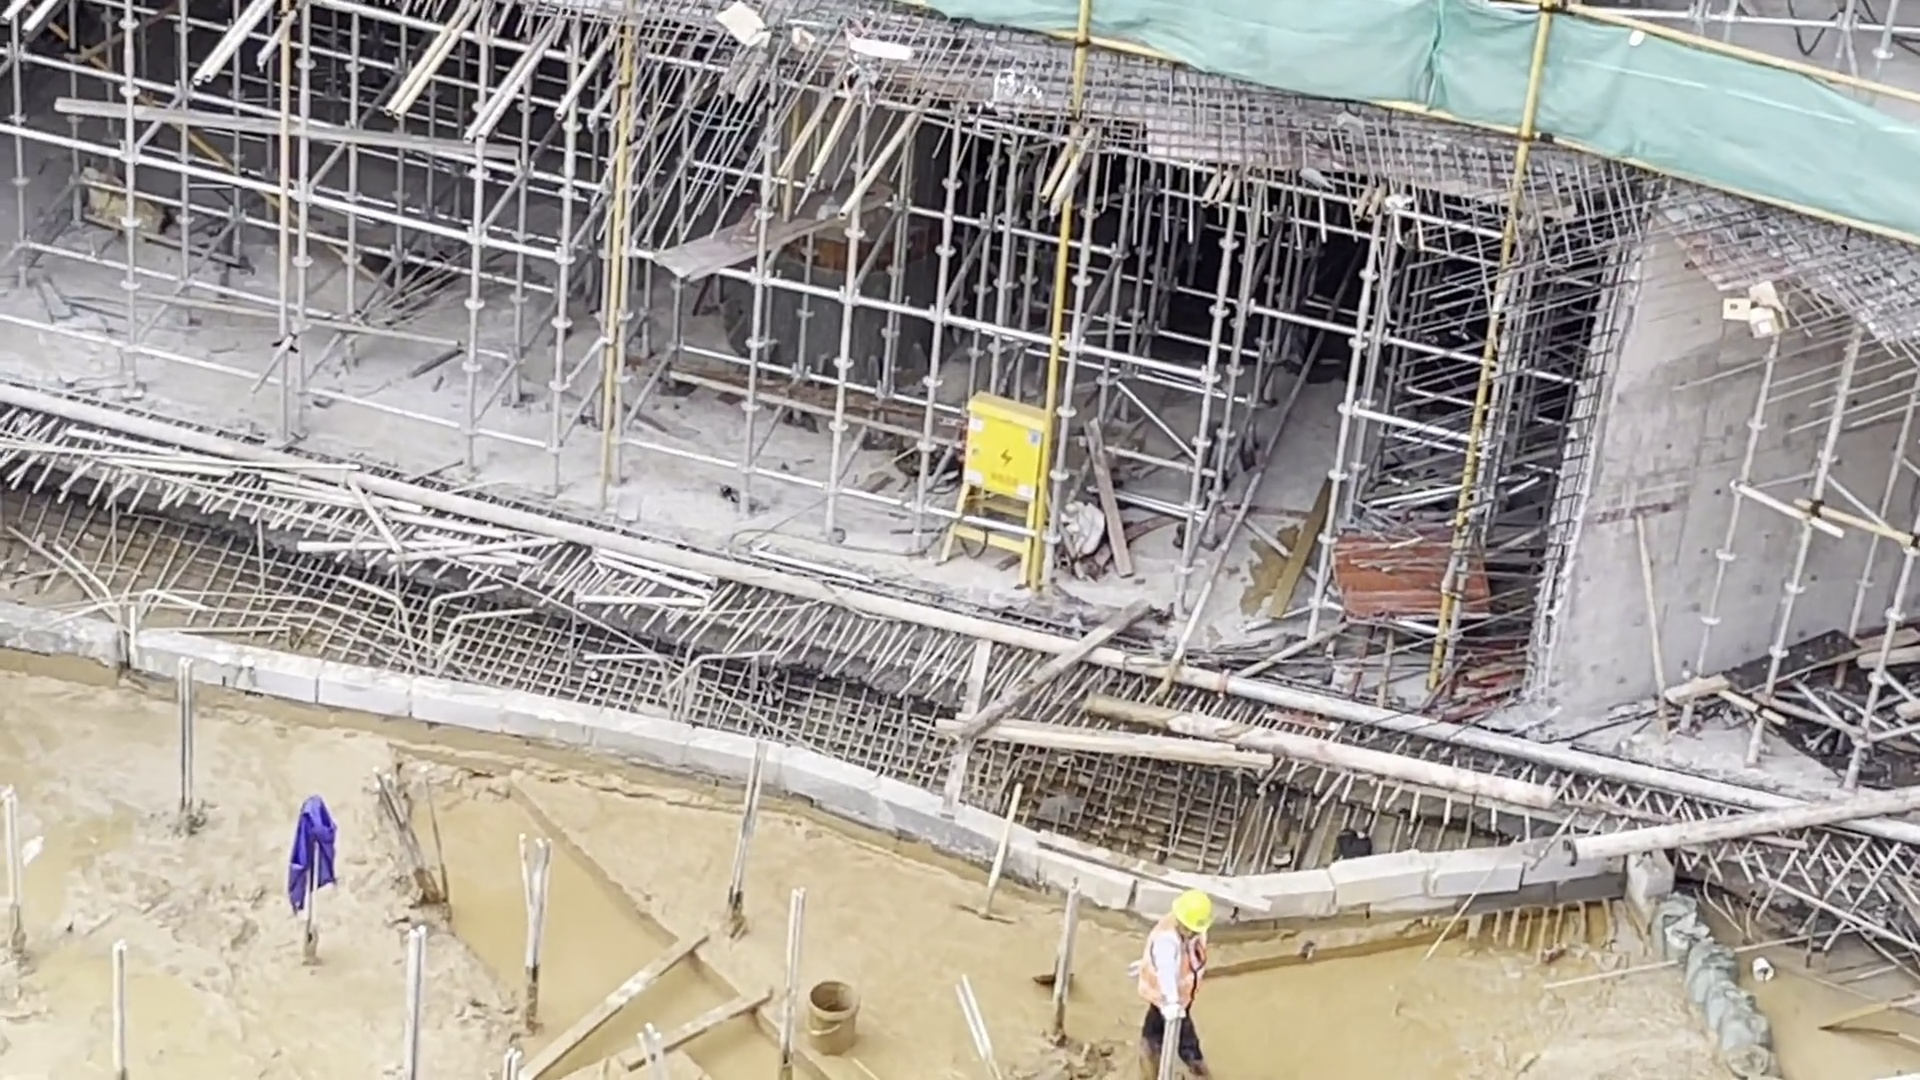ebox: (945, 390, 1052, 592)
helmet: (1173, 890, 1216, 934)
person: (1131, 890, 1226, 1080)
vest: (1137, 917, 1214, 1016)
